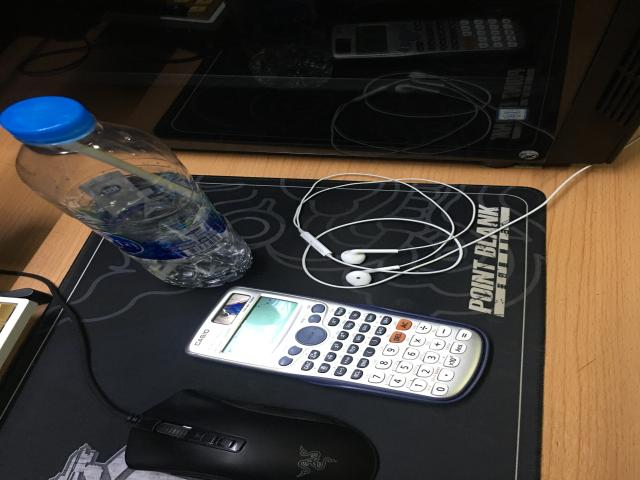Mouse: (125, 389, 378, 480)
bottle: (0, 97, 252, 287)
wire: (293, 173, 550, 289)
